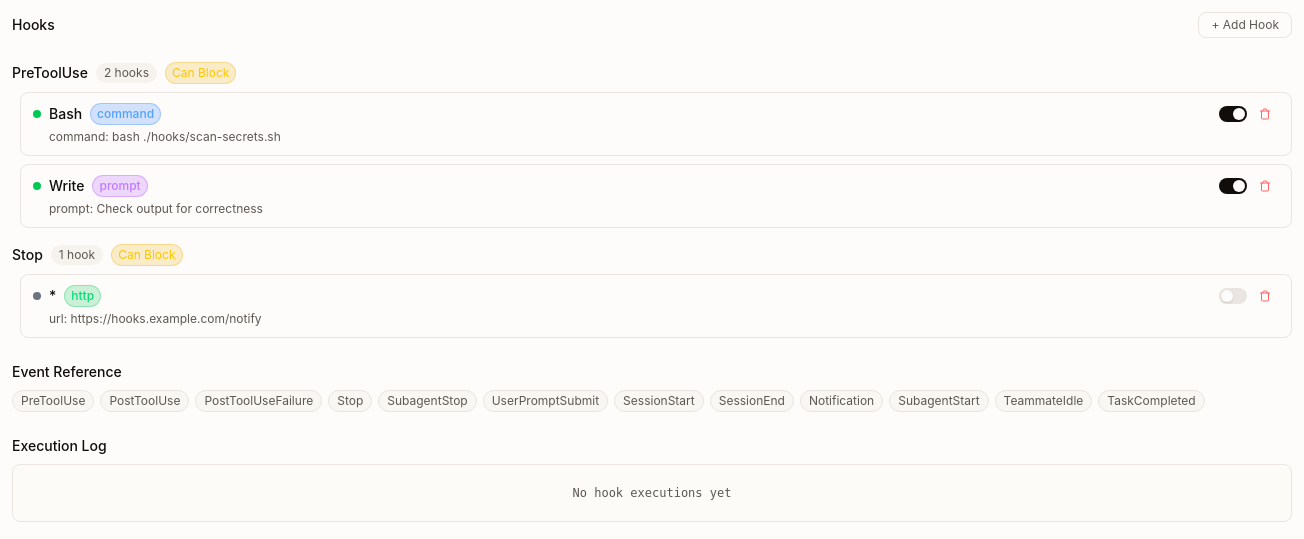
HooksPanel › delete shows confirmation
Click the button with test id "hooks-delete-btn-hook-1" at coordinates (1265, 114), box [1251,106,1279,122]
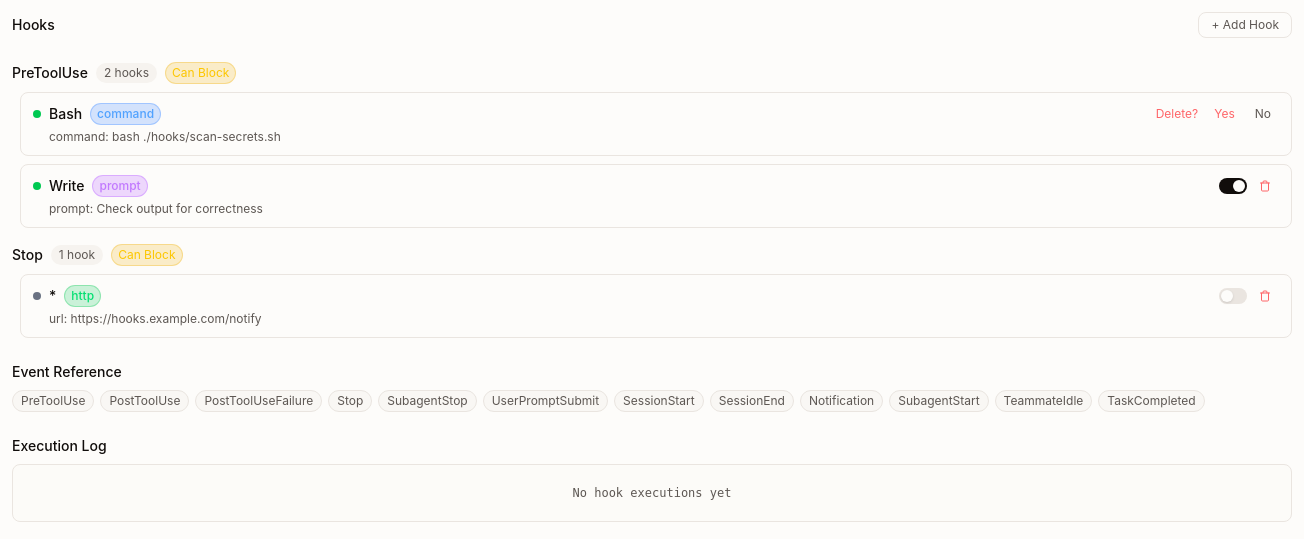
Expected: the button with test id "hooks-delete-confirm-hook-1" is shown, [1206,104,1243,124]
